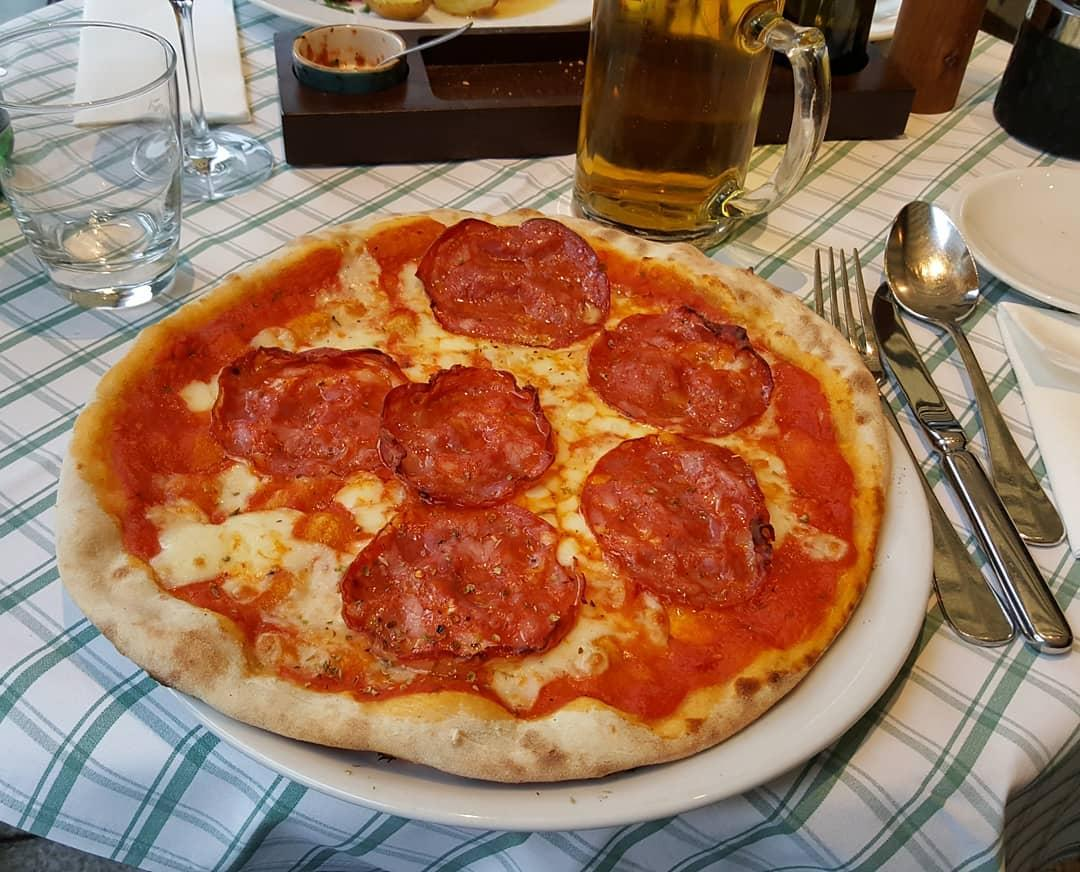Pepperoni: (333, 495, 588, 673), (576, 425, 777, 614), (199, 335, 413, 492), (410, 212, 620, 356), (368, 358, 565, 509), (579, 299, 777, 438)
Pizza: (49, 200, 900, 793)
